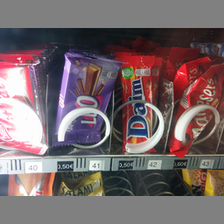chocolate: (55, 53, 120, 144), (172, 65, 223, 157), (1, 54, 46, 153), (120, 55, 157, 151)
